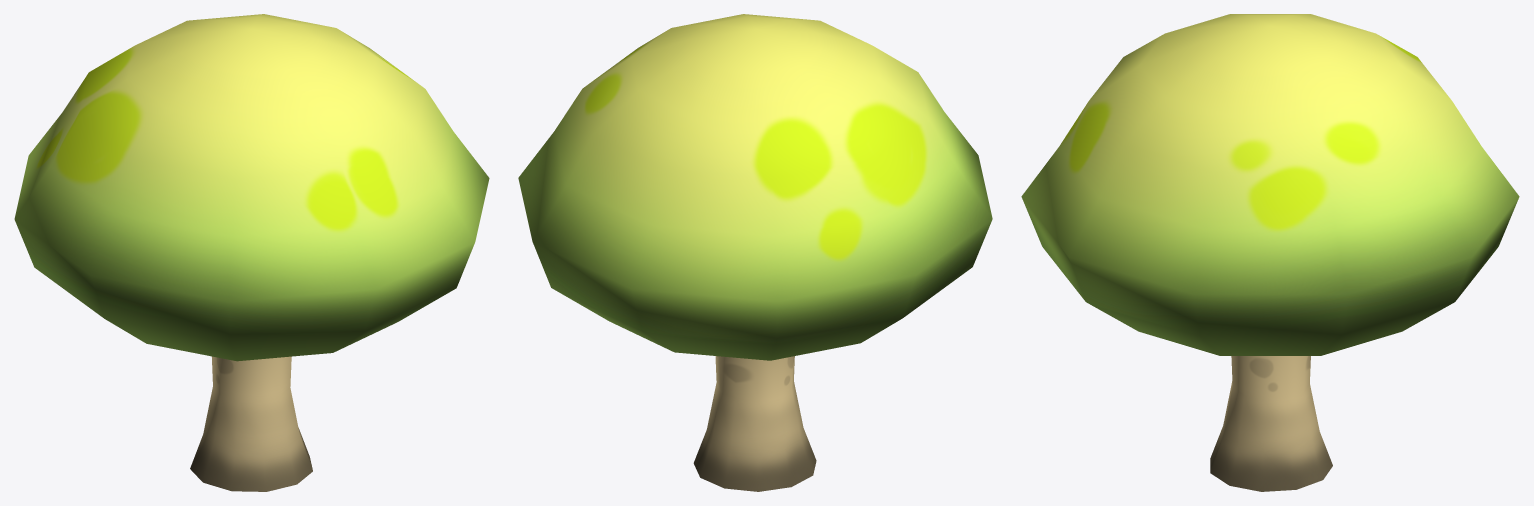
File: mushroom-3.fbx
The picture shows the model from 3 angles, left to right: view 1: azimuth 30°, elevation 25°; view 2: azimuth 150°, elevation 25°; view 3: azimuth 270°, elevation 25°; orthographic projection.
Visible parts, largest first — view 1: Sphere; view 2: Sphere; view 3: Sphere.
Boxes of the visible parts, box(x1,y1,x2,y2) form: Sphere: box(14, 14, 489, 491); Sphere: box(518, 14, 992, 491); Sphere: box(1021, 14, 1519, 491).
Size of the model in its own units: 991 by 1039 by 1067.
Materials: 2 (2 with a texture image).
